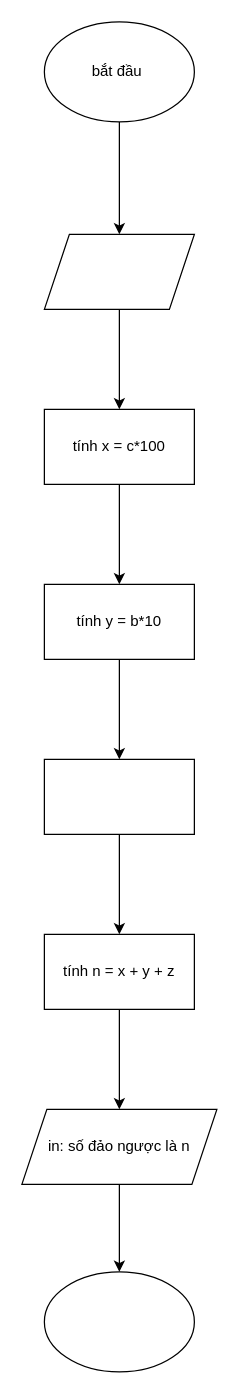
This 239x1394 diagram has some shape labels left out. Here are the shapes that lost their labels. From the top down, the centre of each, then its label:
the point at 118,271: nhập vào số abc
the point at 118,796: tính z = a
the point at 118,1321: kết thúc
